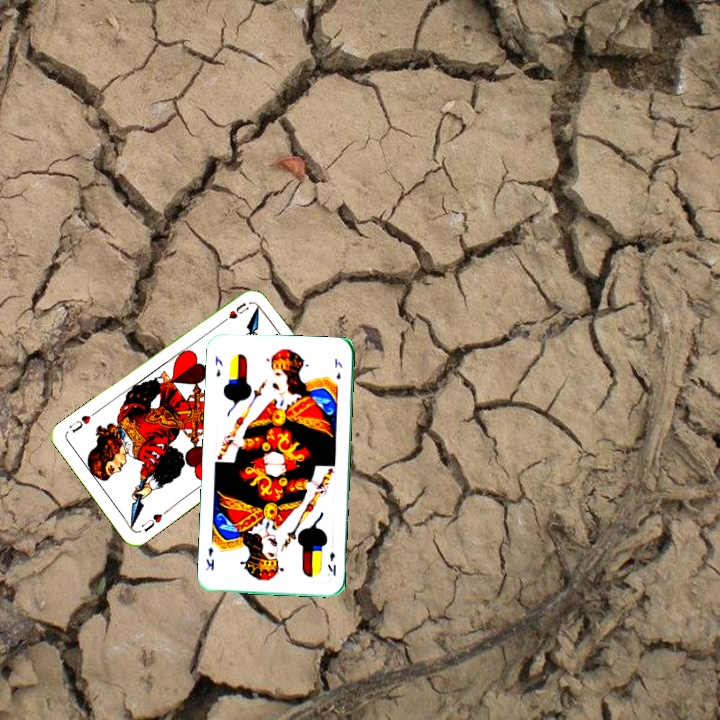EK: (324, 548, 338, 578), (211, 352, 225, 379)
HU: (137, 506, 171, 534), (224, 298, 251, 322)
